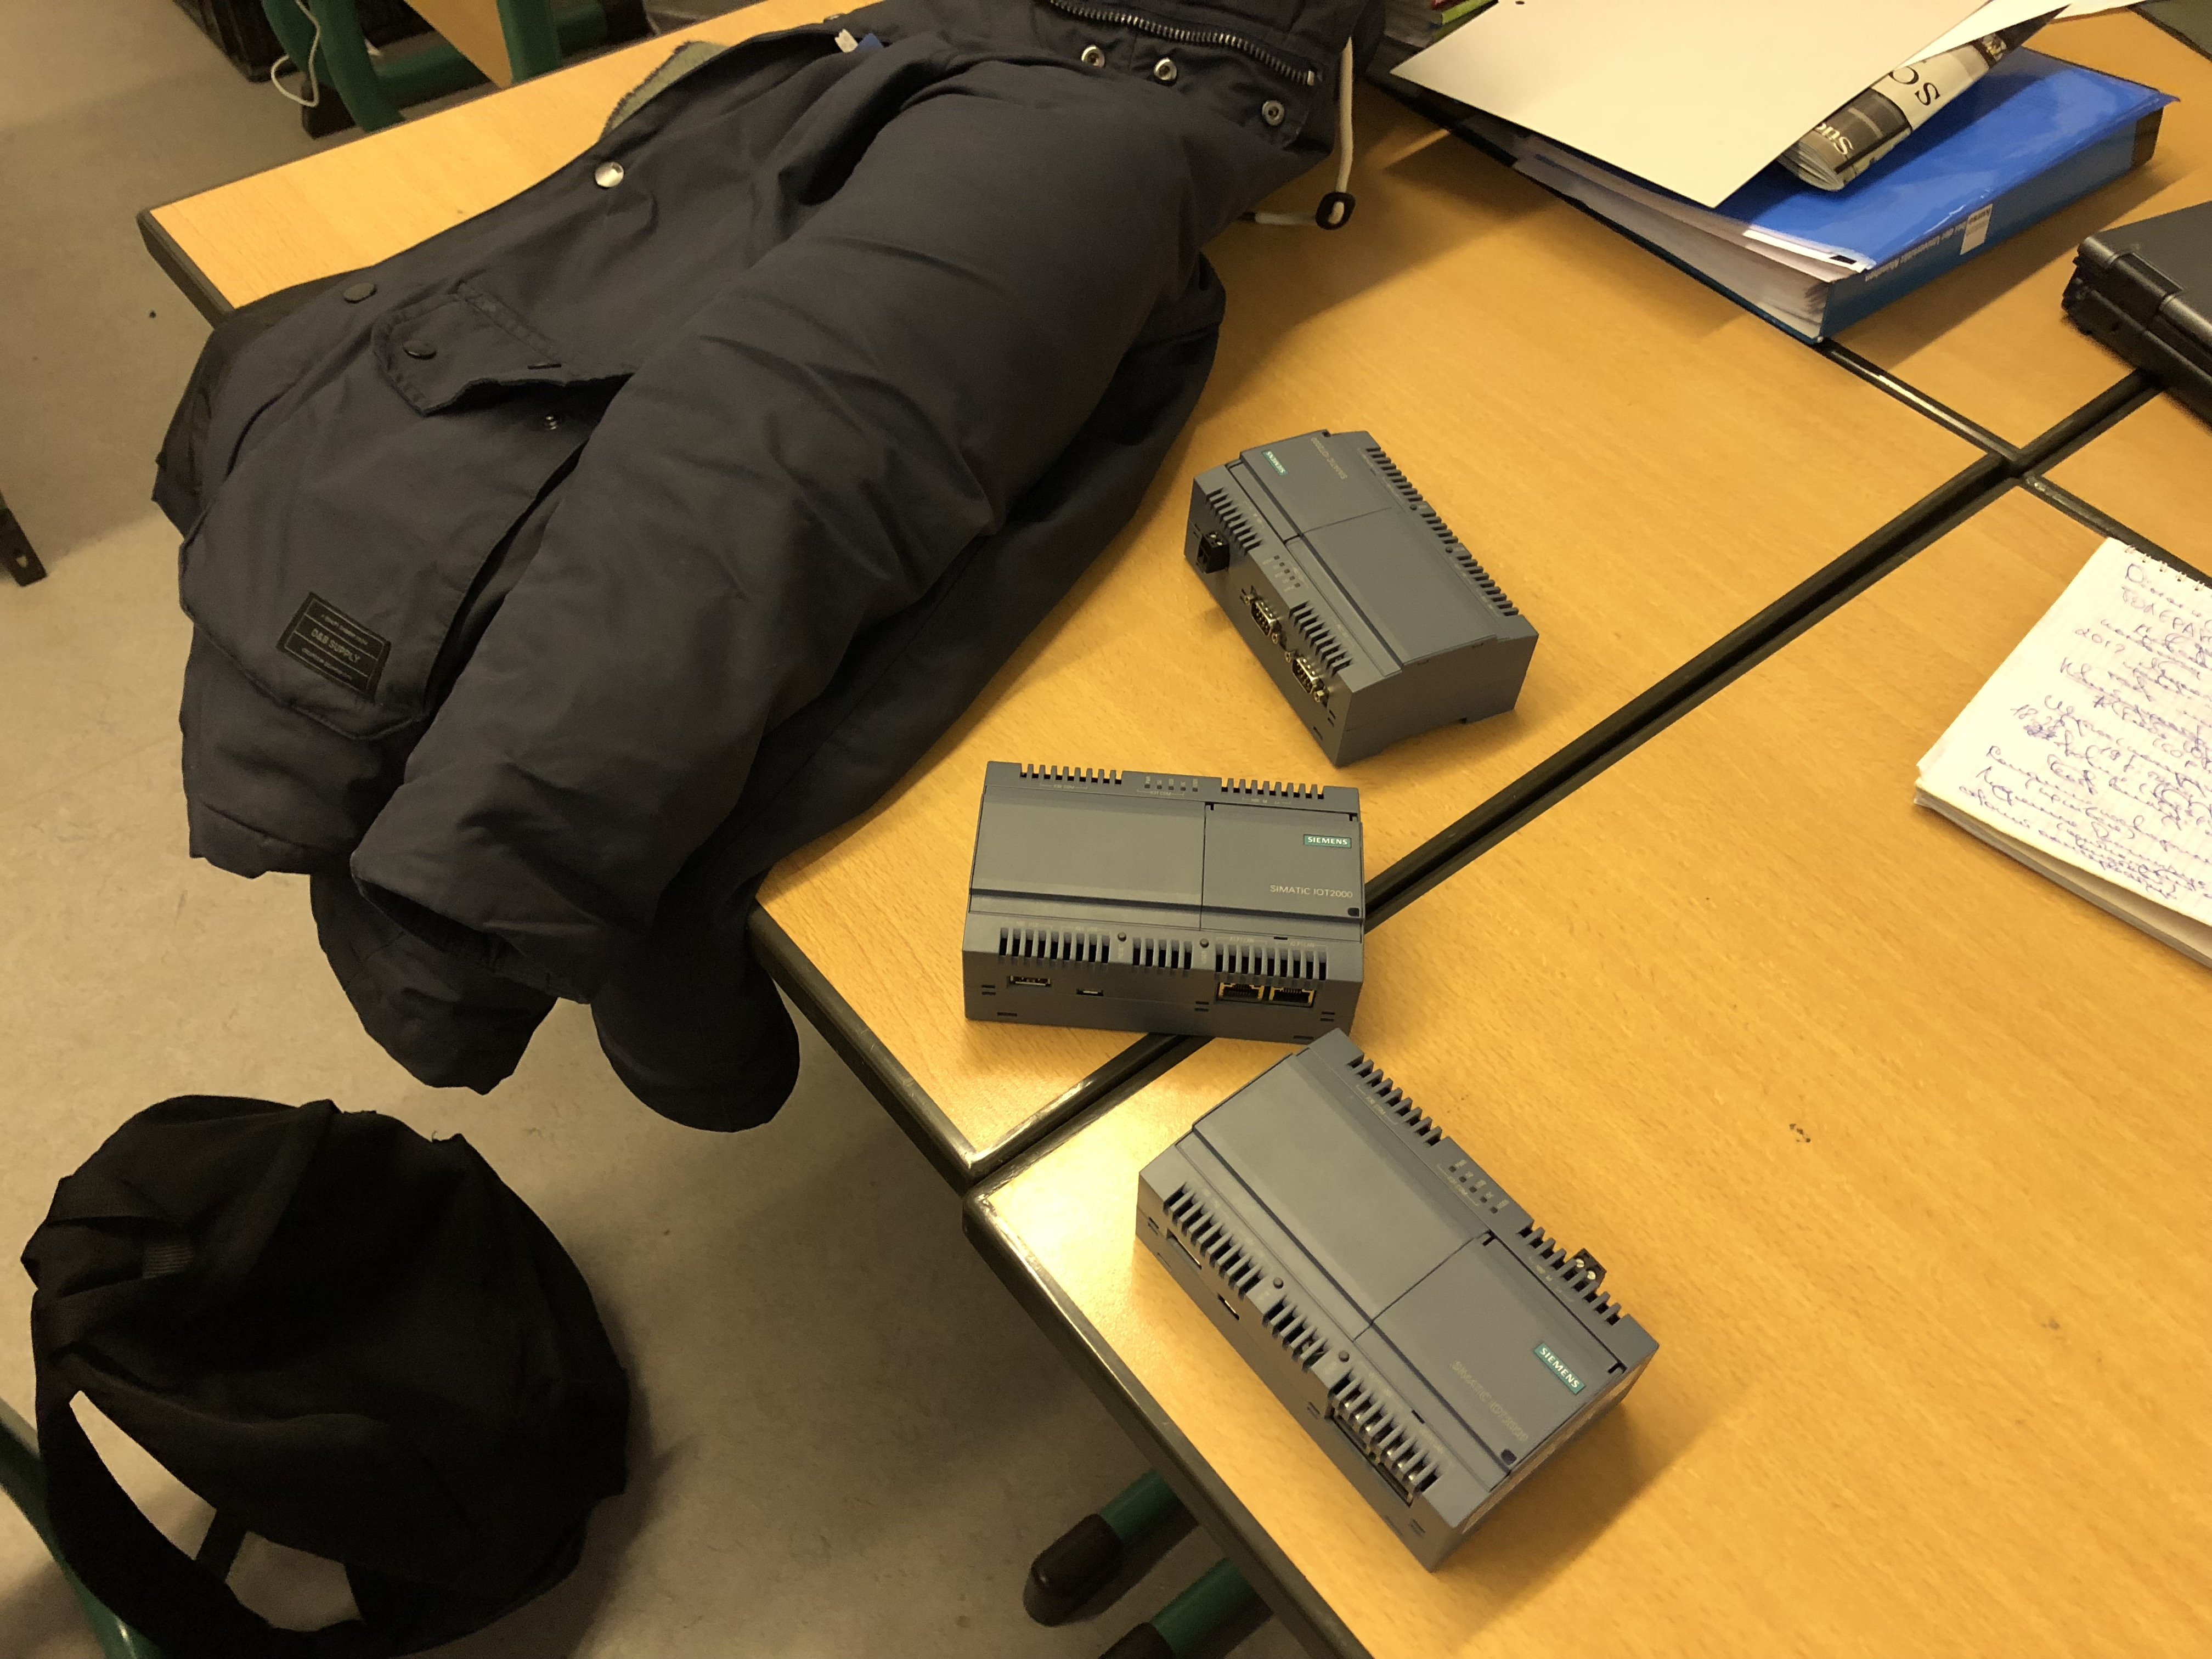device: (1136, 1026, 1662, 1575), (1183, 427, 1541, 770), (961, 760, 1367, 1046)
